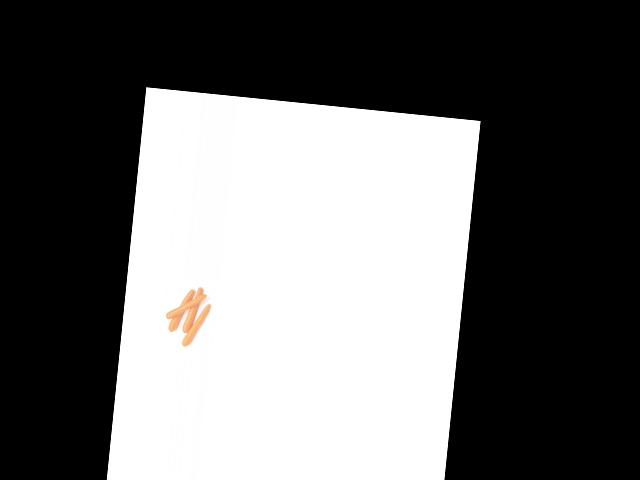carrot: (165, 287, 194, 336)
